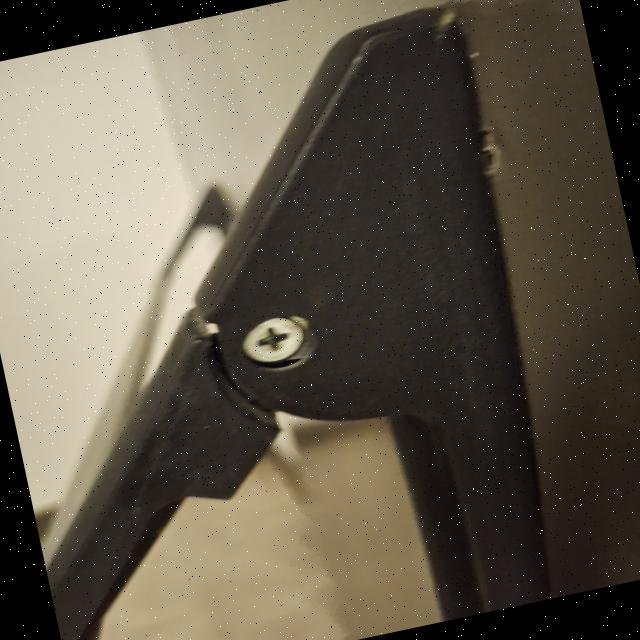Phillips: (230, 306, 324, 381)
